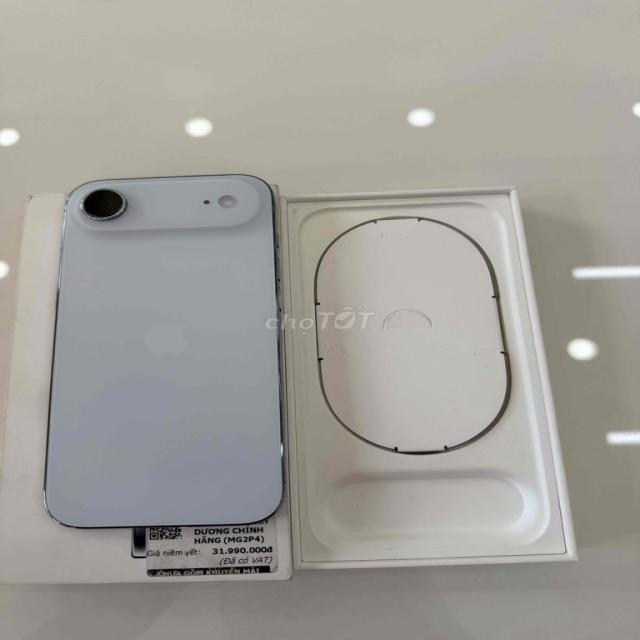gen_17: (36, 166, 302, 539)
